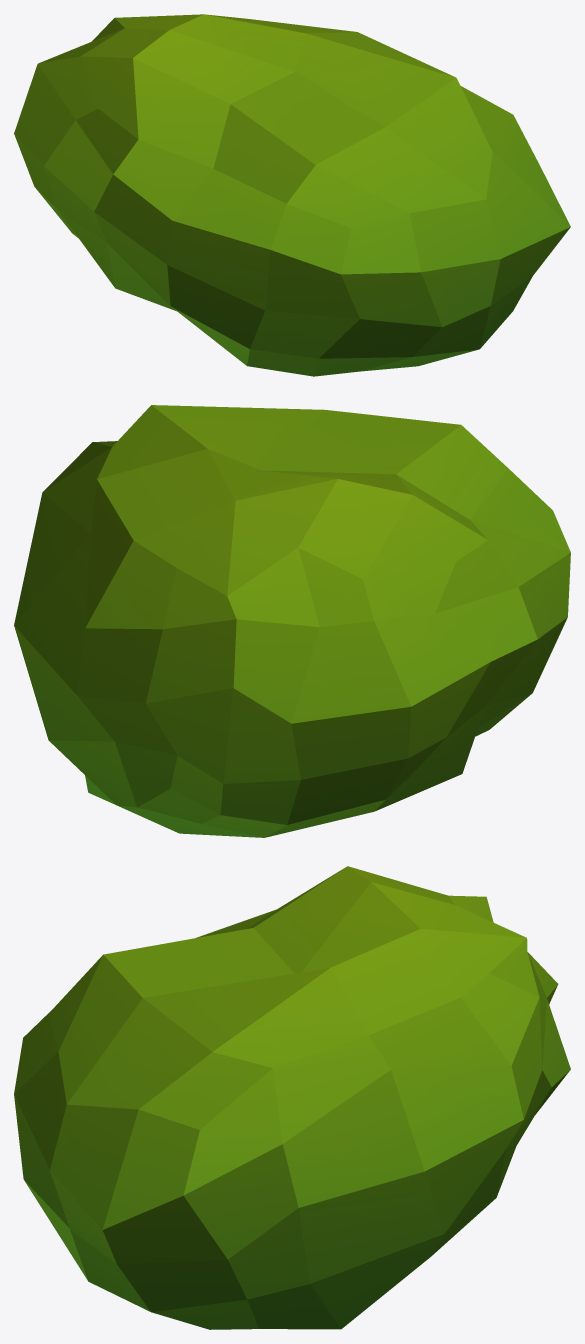
The model's file is FloatingIsland_Dif12_Sc2.fbx.
The picture shows the model from 3 angles, top to bottom: view 1: azimuth 30°, elevation 25°; view 2: azimuth 150°, elevation 25°; view 3: azimuth 270°, elevation 25°; orthographic projection. The views are drawn at different scales.
Parts seen in each view (by area): view 1: FloatingIsland_Dif12_Sc2; view 2: FloatingIsland_Dif12_Sc2; view 3: FloatingIsland_Dif12_Sc2.
Boxes of the visible parts, x1,y1,x2,y2 form: FloatingIsland_Dif12_Sc2: (14,14,570,376); FloatingIsland_Dif12_Sc2: (14,405,570,837); FloatingIsland_Dif12_Sc2: (14,866,570,1329).
Bounding box in the file's own units: 0.7303 × 0.7789 × 0.5436.
